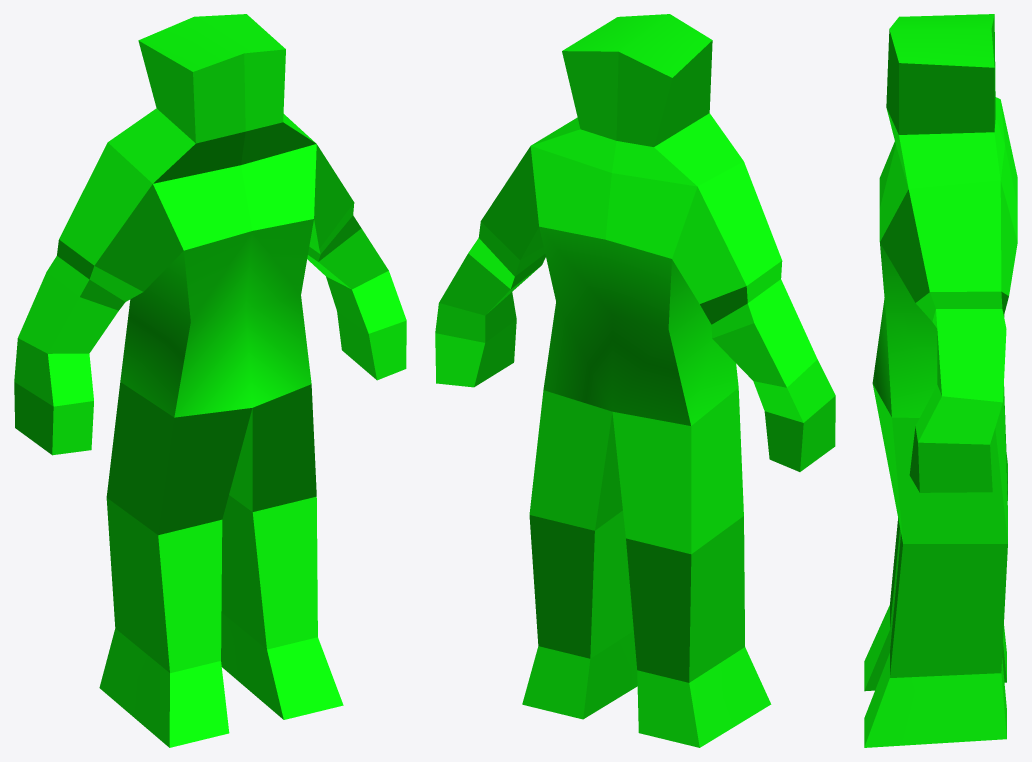
The model's file is FinalBaseMesh_max_green.obj.
The picture shows the model from 3 angles, left to right: view 1: azimuth 30°, elevation 25°; view 2: azimuth 150°, elevation 25°; view 3: azimuth 270°, elevation 25°; orthographic projection. The views are drawn at different scales.
Parts seen in each view (by area): view 1: Box002; view 2: Box002; view 3: Box002.
Part boxes in pixels (x1,y1,x2,y2): Box002: (14,14,406,747); Box002: (435,14,835,747); Box002: (864,14,1017,747).
Size of the model in its own units: 11.99 by 21.08 by 4.34.
